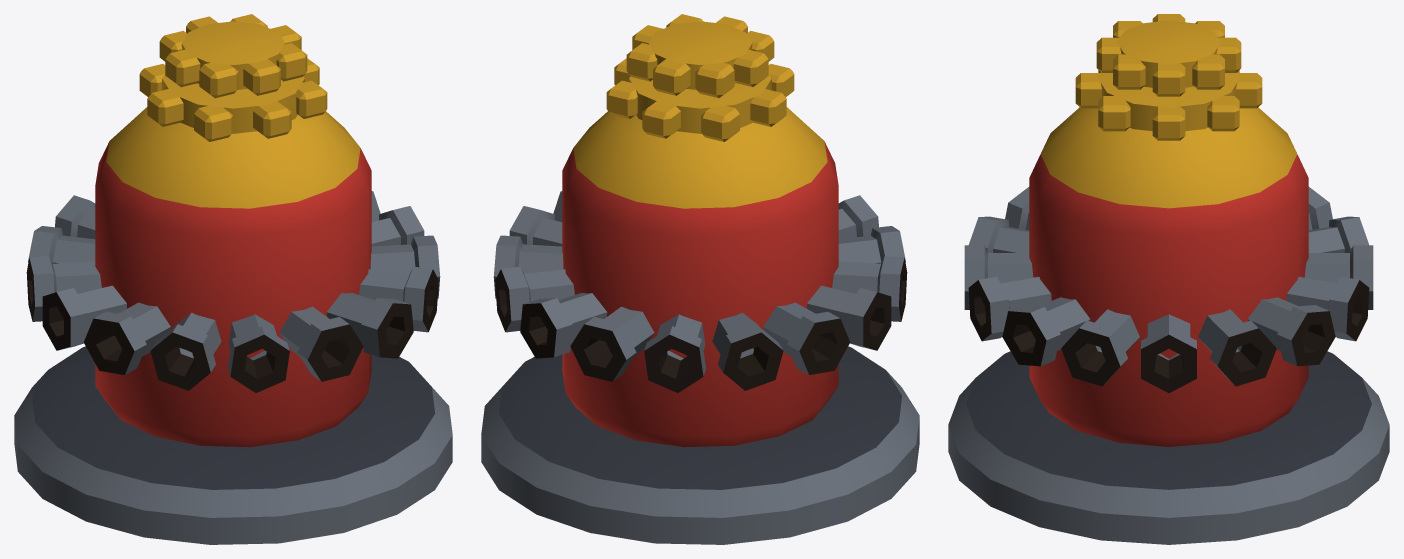
The picture shows the model from 3 angles, left to right: view 1: azimuth 30°, elevation 25°; view 2: azimuth 150°, elevation 25°; view 3: azimuth 270°, elevation 25°; orthographic projection.
Visible parts, largest first — view 1: tachinha_1_torreta, tachinha_0_base; view 2: tachinha_1_torreta, tachinha_0_base; view 3: tachinha_1_torreta, tachinha_0_base.
Boxes of the visible parts, x1,y1,x2,y2 form: tachinha_1_torreta: (26,14,440,447); tachinha_0_base: (14,346,452,544); tachinha_1_torreta: (493,14,907,447); tachinha_0_base: (481,346,919,544); tachinha_1_torreta: (964,14,1373,446); tachinha_0_base: (948,351,1389,544).
Size of the model in its own units: 0.68 by 0.705 by 0.68.
